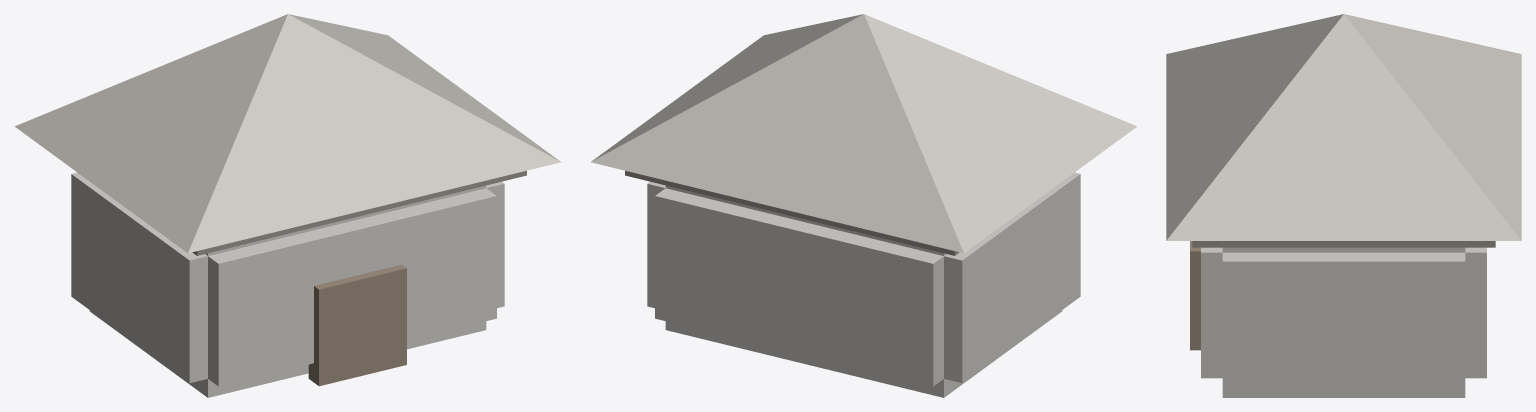
File: Storage.glb
The picture shows the model from 3 angles, left to right: view 1: azimuth 30°, elevation 25°; view 2: azimuth 150°, elevation 25°; view 3: azimuth 270°, elevation 25°; orthographic projection. The views are drawn at different scales.
Visible parts, largest first — view 1: tint, body; view 2: tint, body; view 3: tint, body.
Boxes of the visible parts, x1,y1,x2,y2 form: tint: [15, 14, 560, 253]; body: [71, 170, 526, 397]; tint: [591, 14, 1136, 253]; body: [625, 170, 1080, 397]; tint: [1166, 14, 1521, 240]; body: [1190, 241, 1495, 397].
Size of the model in its own units: 1.02 by 0.8 by 0.82.
